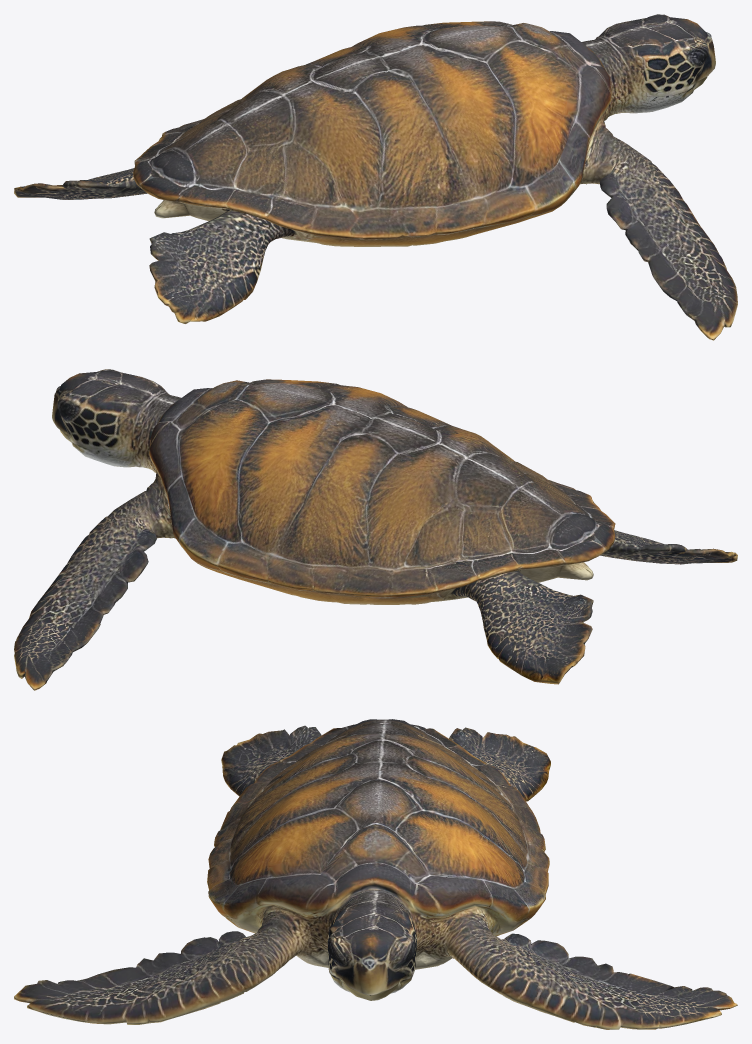
File: turtle.glb
3 renders of one model, top to bottom at view 1: azimuth 30°, elevation 25°; view 2: azimuth 150°, elevation 25°; view 3: azimuth 270°, elevation 25°, orthographic. The views are drawn at different scales.
Parts seen in each view (by area): view 1: tripo_node_ee805e2c-5b4a-4606-8330-5548d13acceb; view 2: tripo_node_ee805e2c-5b4a-4606-8330-5548d13acceb; view 3: tripo_node_ee805e2c-5b4a-4606-8330-5548d13acceb.
Boxes of the visible parts, left/top/right/bottom form: tripo_node_ee805e2c-5b4a-4606-8330-5548d13acceb: left=14, top=14, right=737, bottom=340; tripo_node_ee805e2c-5b4a-4606-8330-5548d13acceb: left=14, top=369, right=737, bottom=690; tripo_node_ee805e2c-5b4a-4606-8330-5548d13acceb: left=14, top=719, right=737, bottom=1029.
Bounding box in the file's own units: 0.9993 × 0.2834 × 1.06.
1 material, 1 textured.
